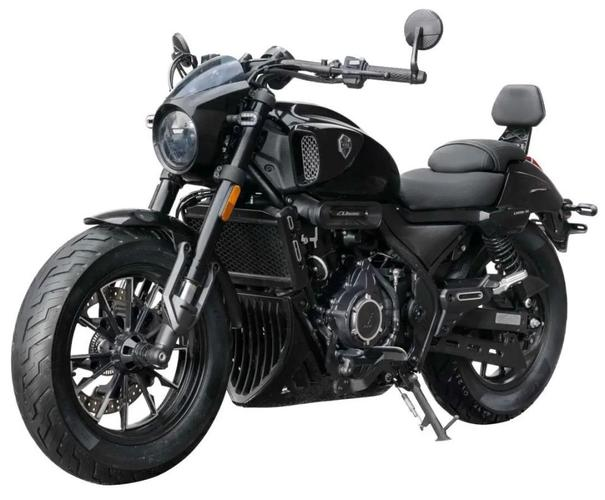摩托车: (7, 3, 605, 487)
